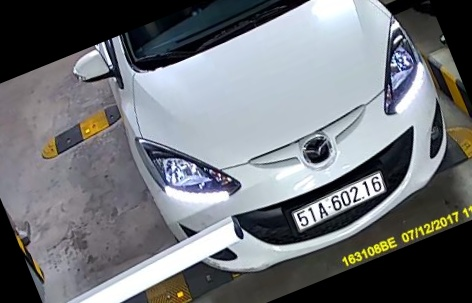plate: (293, 165, 386, 233)
